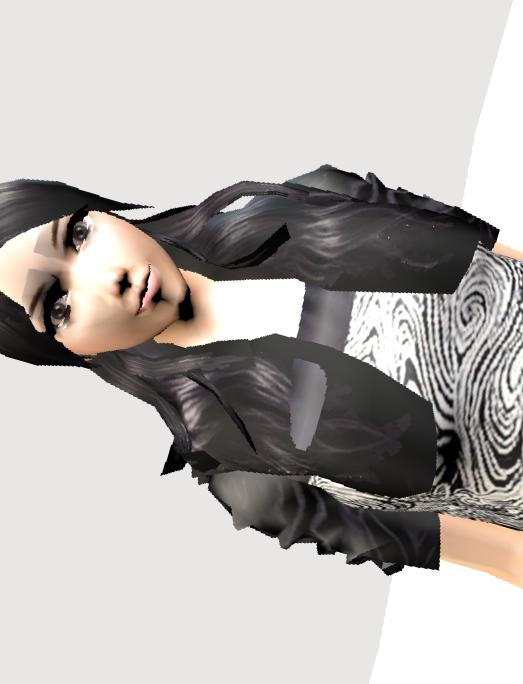clip: (286, 345, 336, 422)
